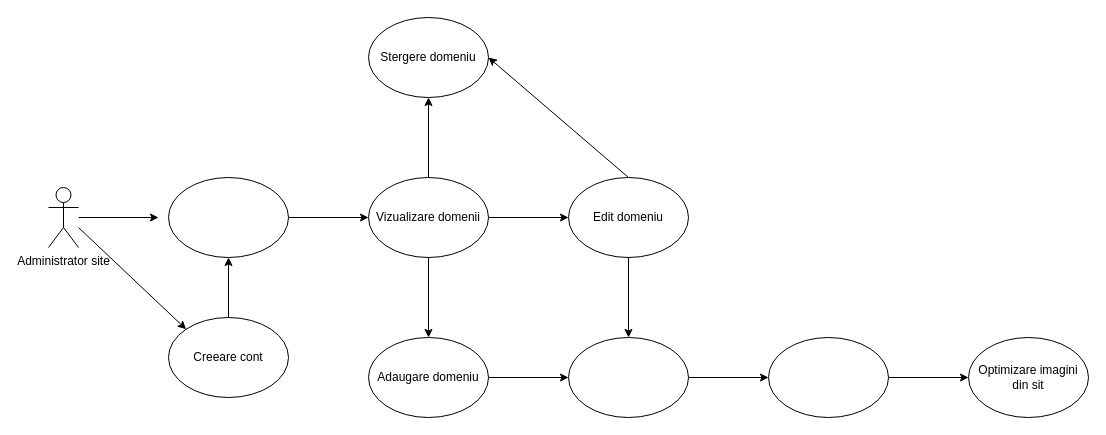
Some shapes in this 1106 by 435 pixel diagram are drawn without their labels. The shapes that lost their labels are listed below. From the top down, each one's box as (x1, y1, x2, y2) in pixels, then its label:
(168, 176, 288, 258): Autentificare
(568, 336, 688, 418): Generare Service Worker
(768, 336, 888, 418): Include Service Worker in sit
